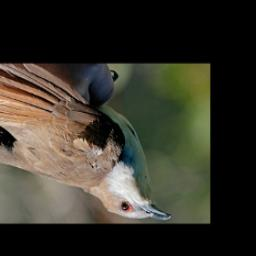Cuckoo: (0, 63, 172, 220)
